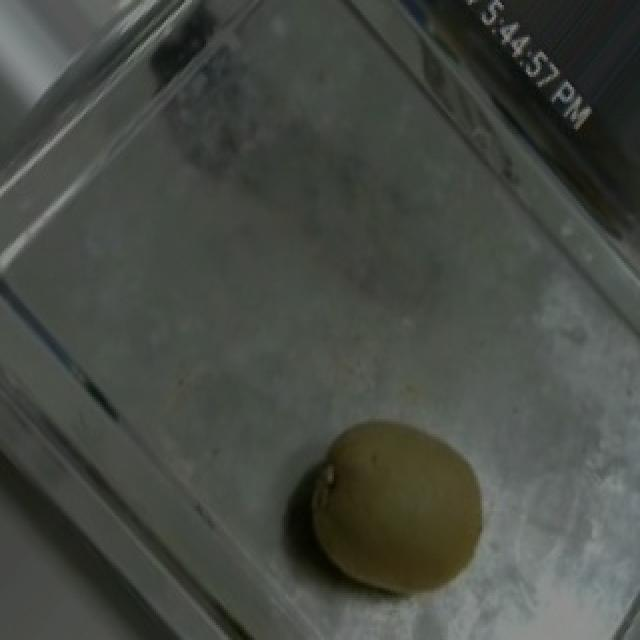Fruit: (258, 392, 524, 632)
